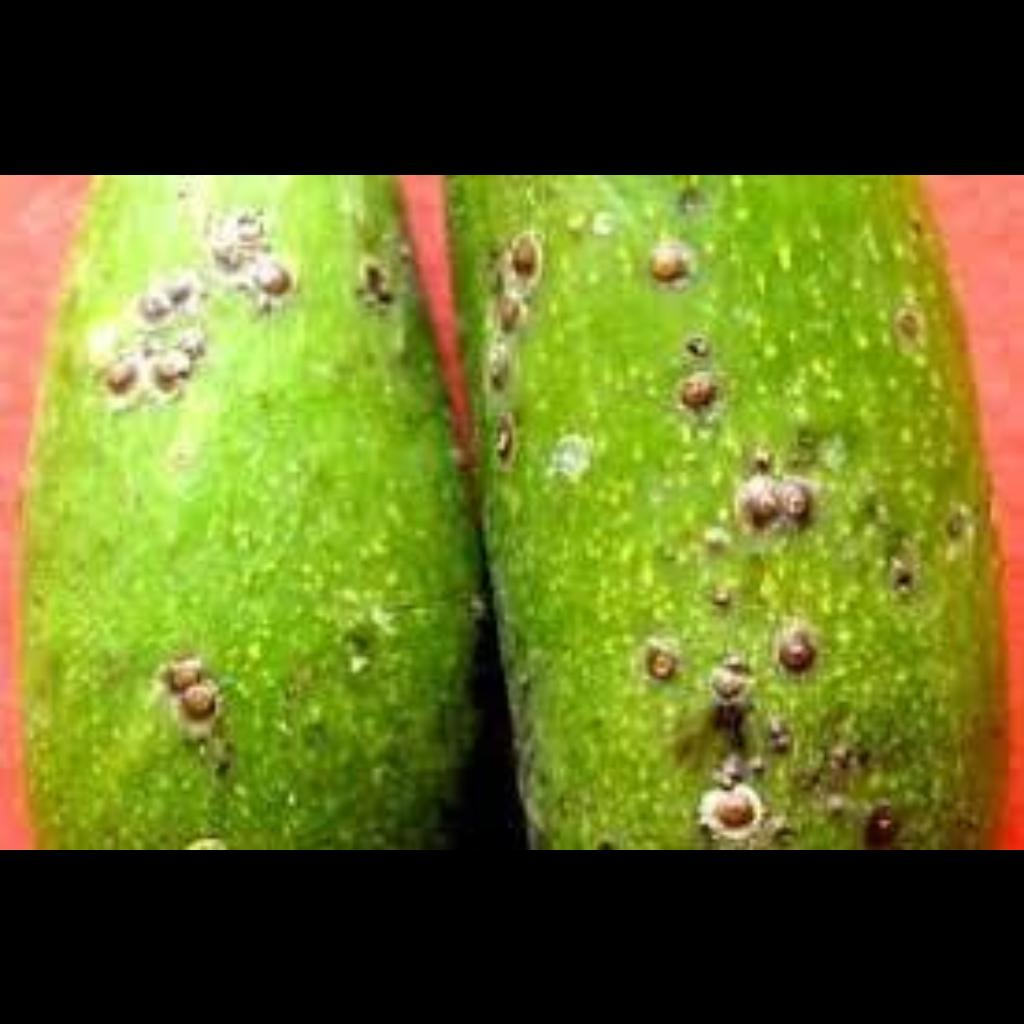cercospora: (568, 211, 980, 838), (111, 218, 326, 808)
